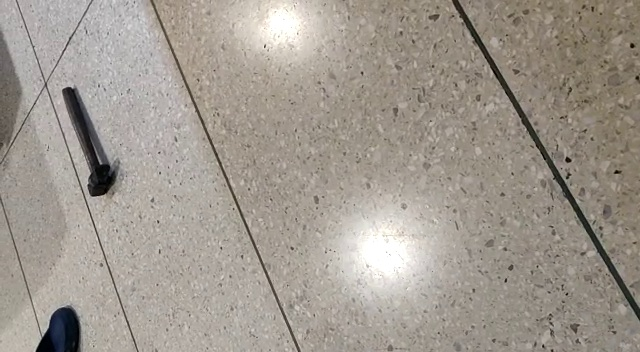hammer: (59, 86, 114, 199)
